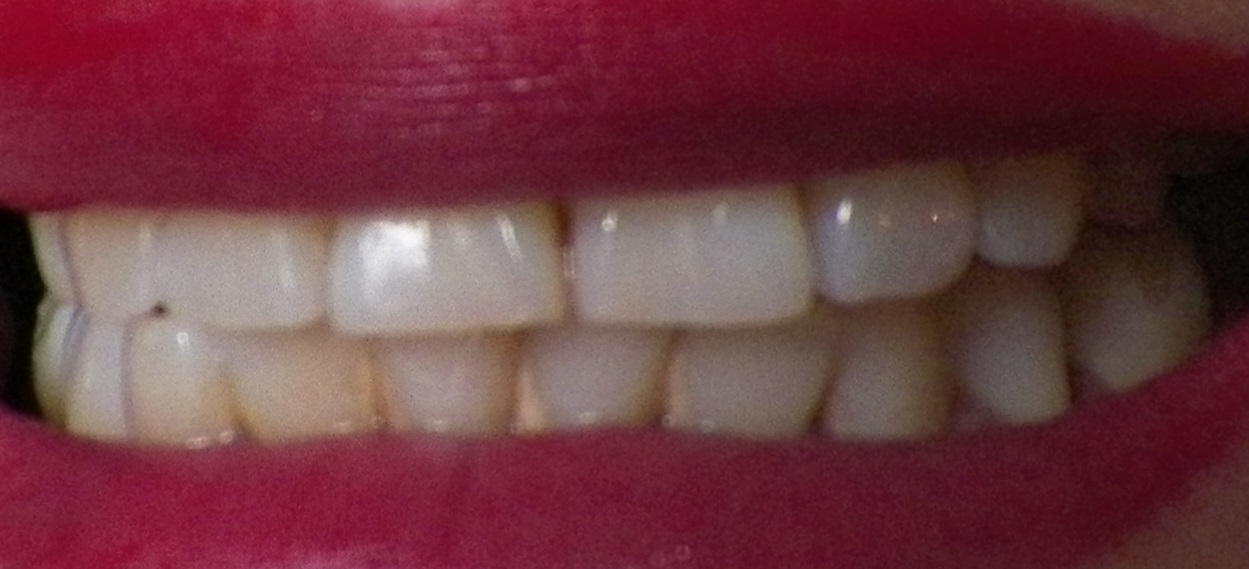boca: (25, 189, 1212, 440)
